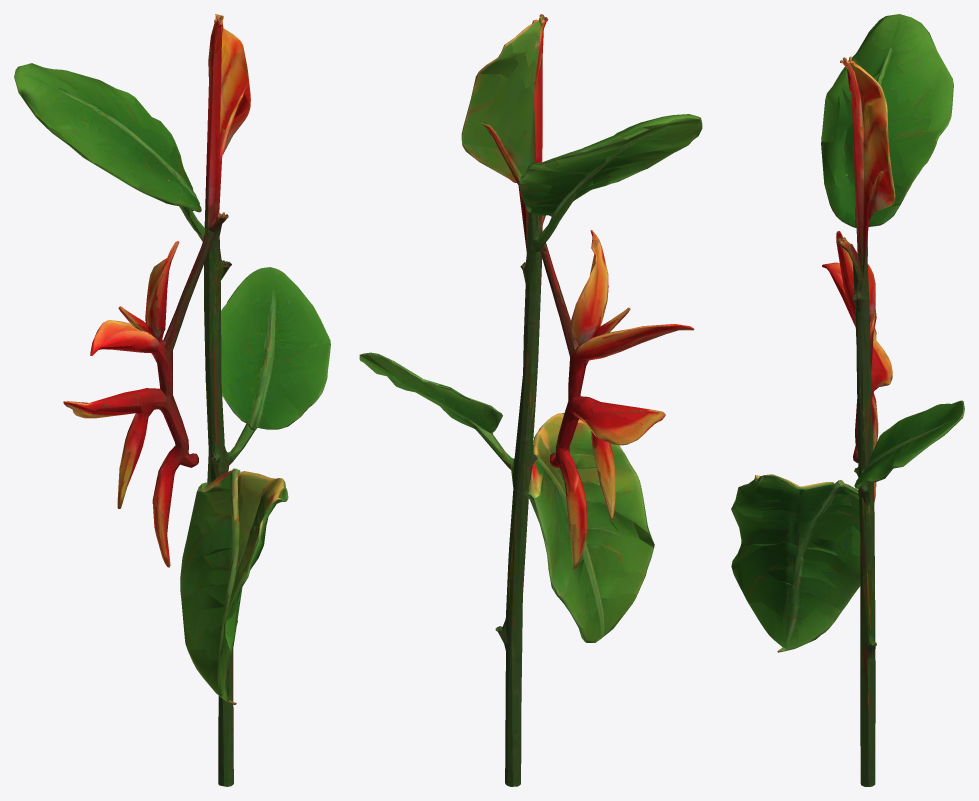
The model's file is scene_heliconia.glb.
3 renders of one model, left to right at view 1: azimuth 30°, elevation 25°; view 2: azimuth 150°, elevation 25°; view 3: azimuth 270°, elevation 25°, orthographic. The views are drawn at different scales.
Size of the model in its own units: 0.8159 by 1.9 by 0.5598.
1 material, 1 textured.
